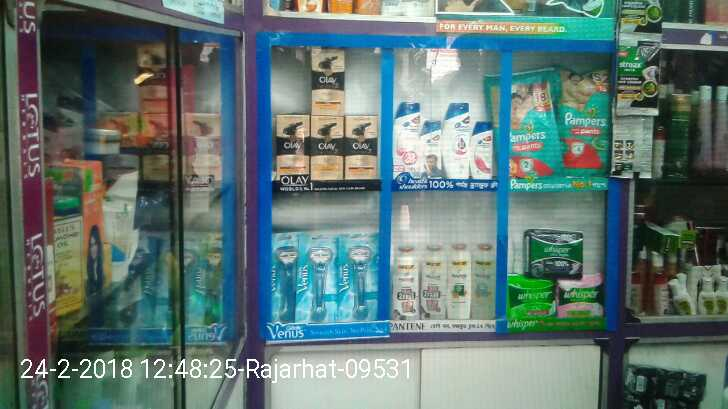venus: (338, 230, 380, 320), (300, 228, 338, 320), (269, 228, 300, 324)
